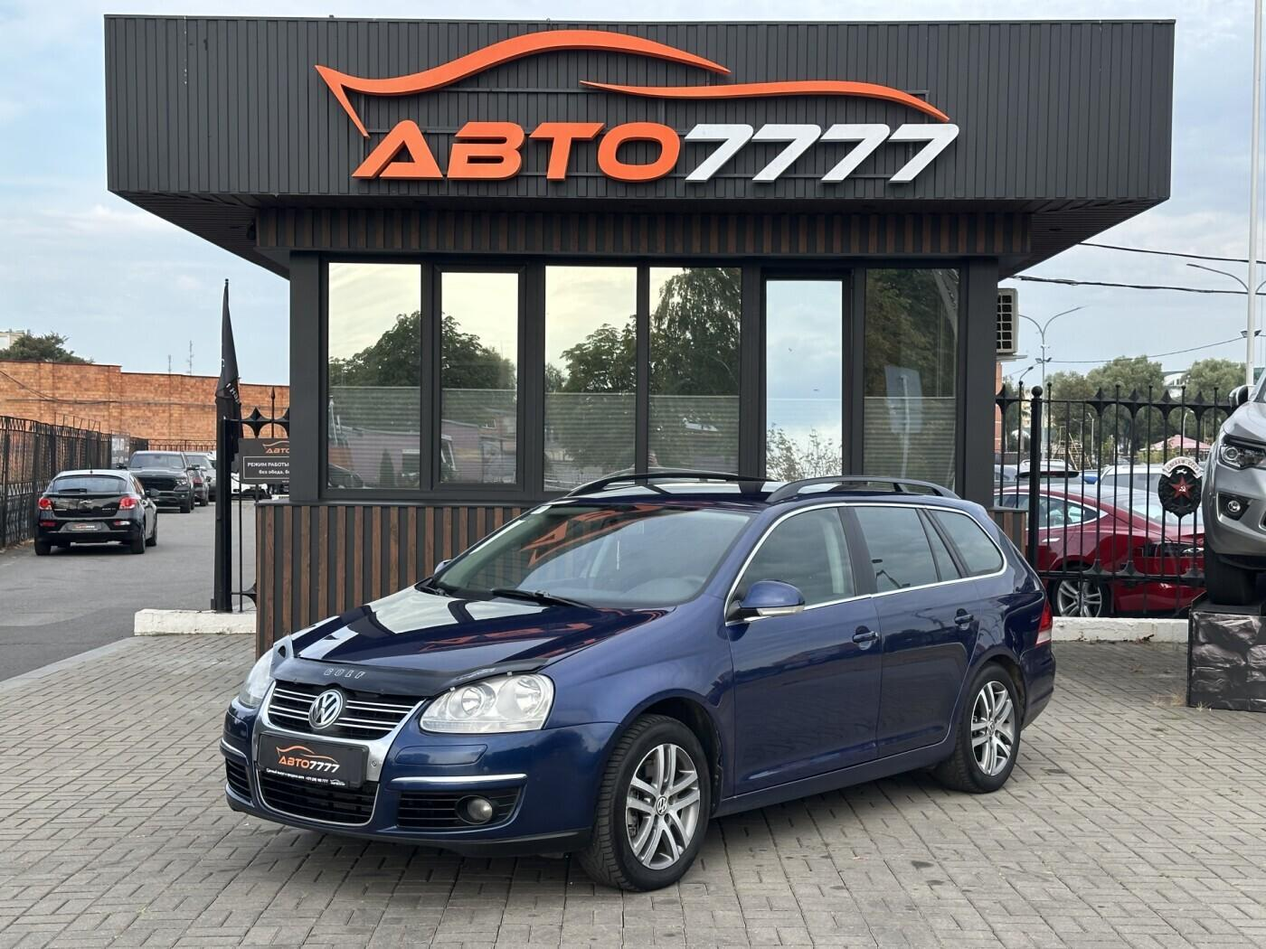Golf_2003-2009: (224, 483, 1061, 889)
